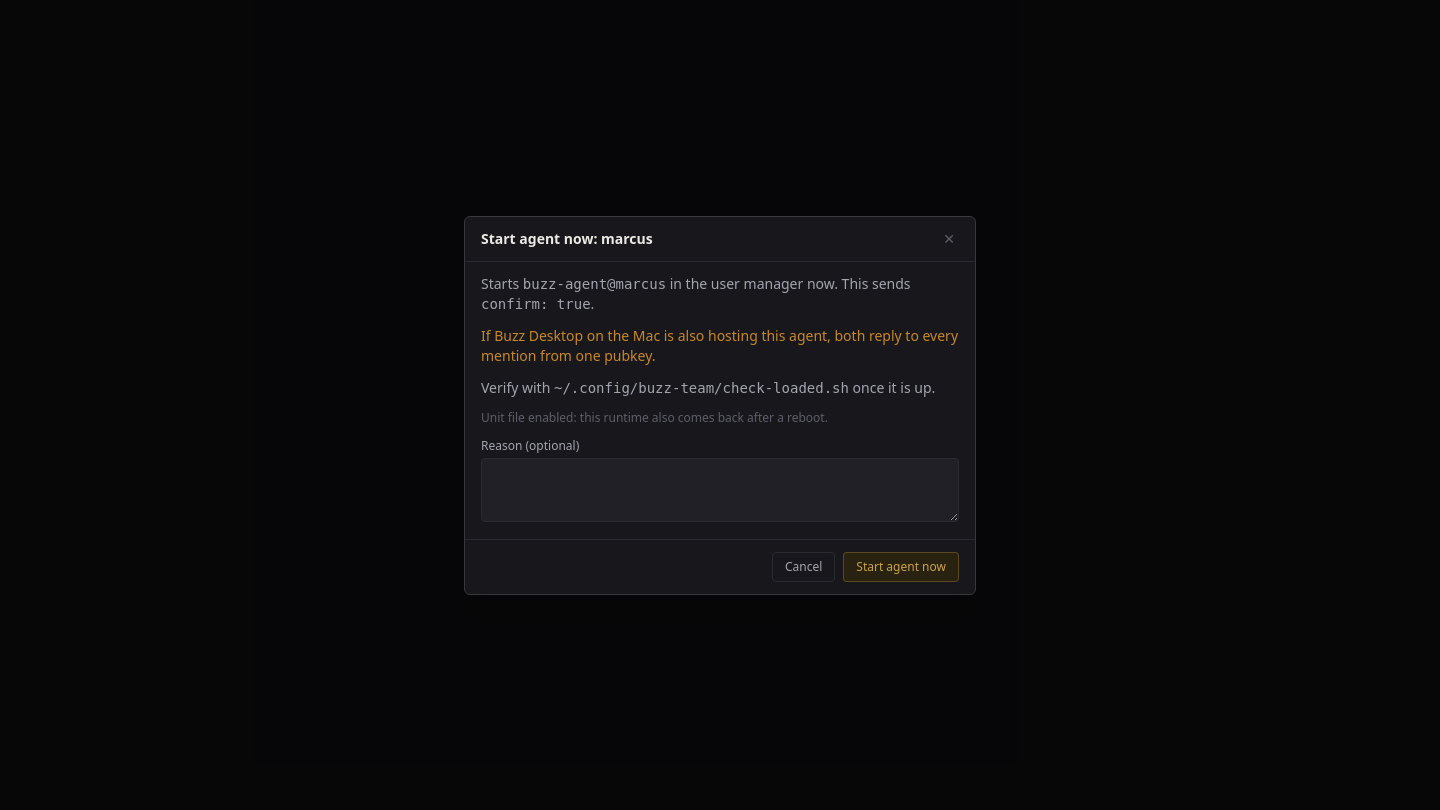
RuntimeDialog › a broker refusal is rendered with its code and does not re-fetch
What coordinates should you click on to do the following:
click the button "Start agent now"
I would click on:
 (901, 566)
Its box is [843,552,959,582].
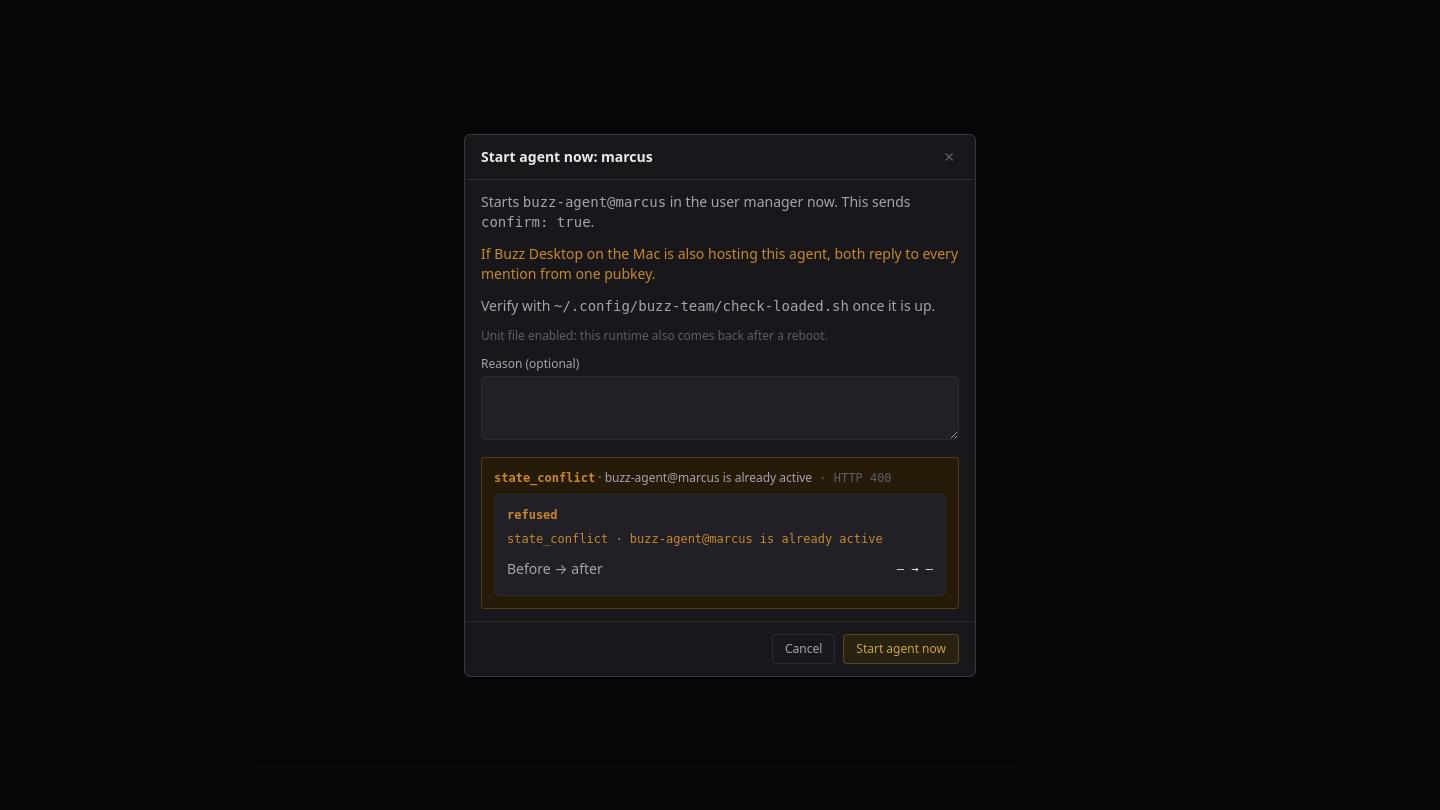
Check: the message with test id "refusal" shows "state_conflict", box [494,470,595,484]
Check: the message with test id "refusal" shows "already active", box [605,468,812,486]
